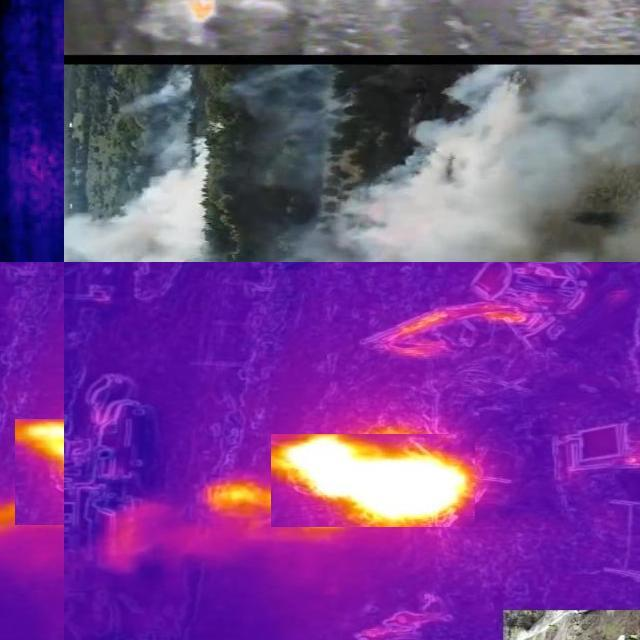fire: (271, 435, 475, 528), (15, 420, 65, 526), (180, 1, 286, 22)
